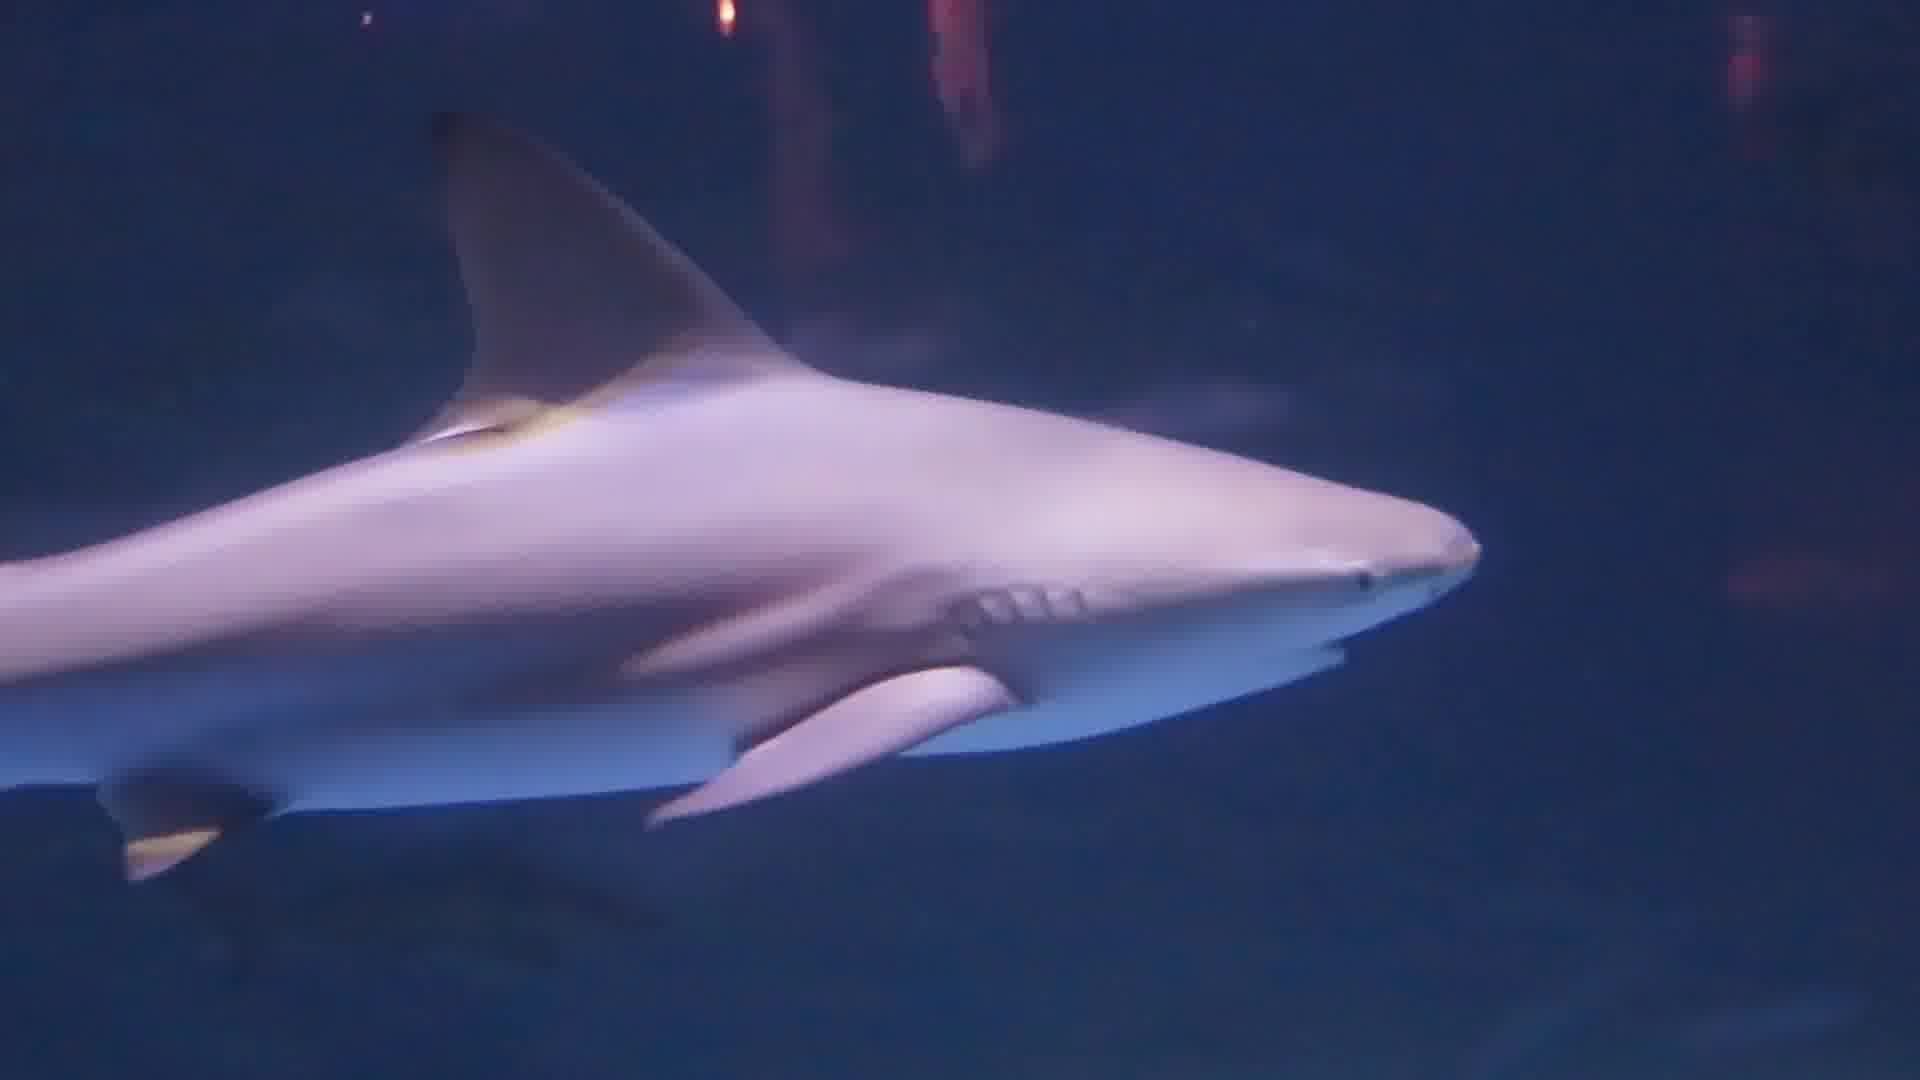Carcharhinus leucas: (1, 22, 1542, 997)
